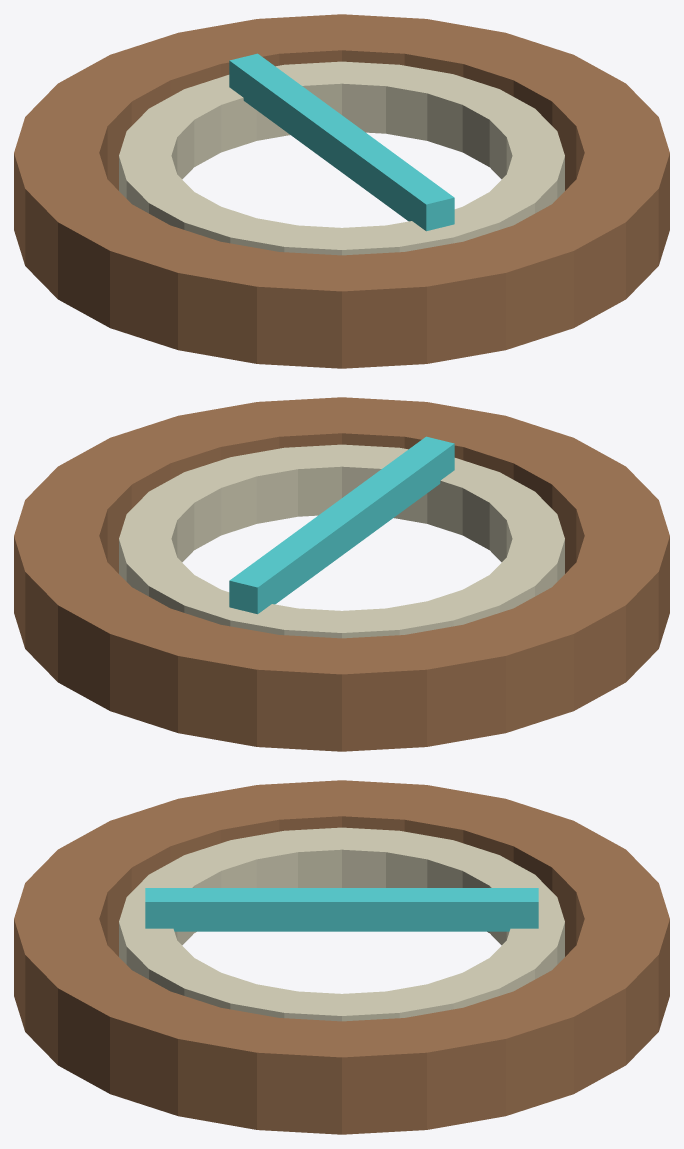
File: listening_compass.fbx
The picture shows the model from 3 angles, top to bottom: view 1: azimuth 30°, elevation 25°; view 2: azimuth 150°, elevation 25°; view 3: azimuth 270°, elevation 25°; orthographic projection.
Visible parts, largest first — view 1: outer_dial, inner_dial, pointer; view 2: outer_dial, inner_dial, pointer; view 3: outer_dial, inner_dial, pointer.
Part boxes in pixels (x1,y1,x2,y2): outer_dial: (14, 14, 669, 368); inner_dial: (119, 61, 564, 255); pointer: (229, 53, 454, 231); outer_dial: (14, 397, 669, 751); inner_dial: (119, 444, 564, 638); pointer: (229, 436, 454, 614); outer_dial: (14, 780, 669, 1134); inner_dial: (119, 827, 564, 1021); pointer: (145, 888, 538, 931).
Size of the model in its own units: 50 by 8.5 by 50.
